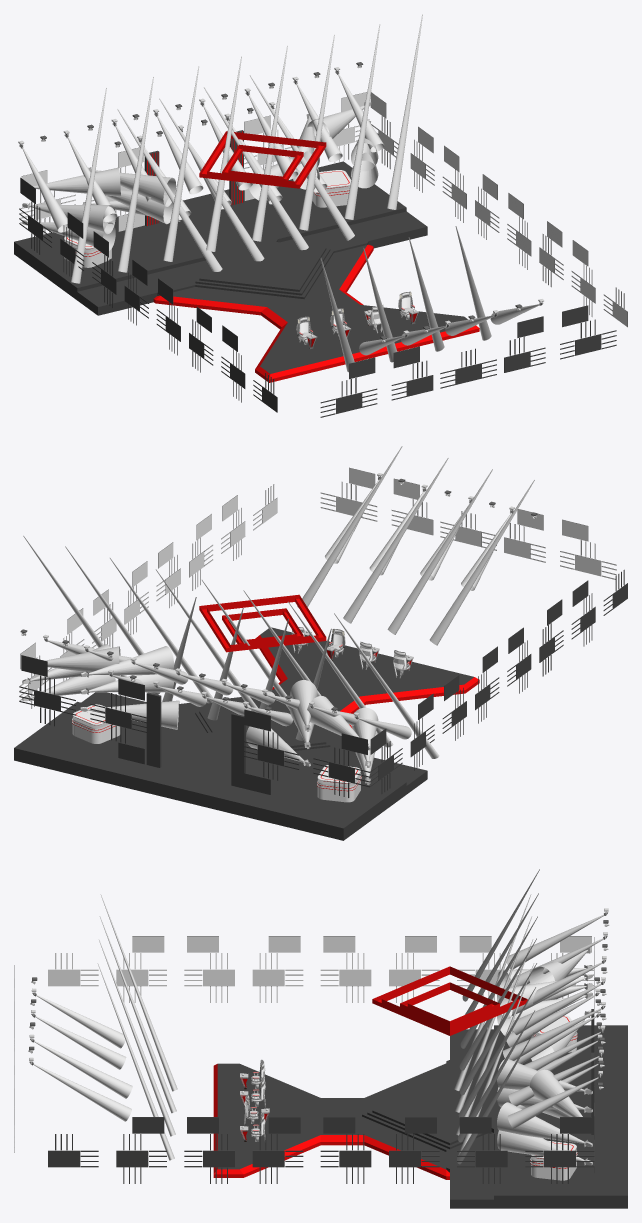
File: the_voice_studio.fbx
3 renders of one model, top to bottom at view 1: azimuth 30°, elevation 25°; view 2: azimuth 150°, elevation 25°; view 3: azimuth 270°, elevation 25°, orthographic. The views are drawn at different scales.
Visible parts, largest first — view 1: Layer0_001, Component#85_017, Group_196, Group_193, Group_171, Group_168, Group_162, Group_165, Group_137, Component#85_001, Group_190, Group_199 (+17 smaller); view 2: Layer0_001, Component#85_007, Group#3_002, Group_227, Group_224, Group_221, Component#85_023, Group#3_001, Group_218, Component#85_011, Component#85_017, Component#85_019 (+11 smaller); view 3: Layer0_001, Component#85_021, Component#85_023, Component#85_019, Group_236, Group_232, Component#85_007, Group_240, Group_216, Group_204, Group_244, Group_176 (+22 smaller).
Boxes of the visible parts, x1=… form: Layer0_001: x1=14, y1=92, x2=627, y2=417; Component#85_017: x1=33, y1=167, x2=120, y2=196; Group_196: x1=344, y1=24, x2=380, y2=219; Group_193: x1=387, y1=14, x2=422, y2=209; Group_171: x1=118, y1=77, x2=153, y2=272; Group_168: x1=163, y1=66, x2=199, y2=261; Group_162: x1=71, y1=88, x2=106, y2=283; Group_165: x1=206, y1=56, x2=241, y2=251; Group_137: x1=117, y1=109, x2=222, y2=271; Component#85_001: x1=89, y1=169, x2=176, y2=206; Group_190: x1=252, y1=45, x2=287, y2=241; Group_199: x1=299, y1=34, x2=334, y2=230; Layer0_001: x1=14, y1=467, x2=627, y2=840; Component#85_007: x1=88, y1=646, x2=173, y2=675; Group#3_002: x1=146, y1=692, x2=161, y2=767; Group_227: x1=343, y1=458, x2=448, y2=623; Group_224: x1=387, y1=469, x2=492, y2=634; Group_221: x1=429, y1=480, x2=534, y2=645; Component#85_023: x1=45, y1=646, x2=120, y2=676; Group#3_001: x1=231, y1=713, x2=245, y2=788; Group_218: x1=297, y1=446, x2=402, y2=607; Component#85_011: x1=87, y1=700, x2=179, y2=729; Component#85_017: x1=307, y1=696, x2=359, y2=737; Component#85_019: x1=30, y1=675, x2=115, y2=698; Layer0_001: x1=14, y1=936, x2=627, y2=1208; Component#85_021: x1=497, y1=1102, x2=584, y2=1143; Component#85_023: x1=529, y1=1069, x2=582, y2=1116; Component#85_019: x1=497, y1=1130, x2=584, y2=1160; Group_236: x1=34, y1=1041, x2=132, y2=1098; Group_232: x1=33, y1=1064, x2=131, y2=1121; Component#85_007: x1=497, y1=1059, x2=584, y2=1091; Group_240: x1=35, y1=1016, x2=126, y2=1069; Group_216: x1=507, y1=1077, x2=598, y2=1128; Group_204: x1=503, y1=1008, x2=601, y2=1060; Group_244: x1=36, y1=995, x2=125, y2=1048; Group_176: x1=505, y1=914, x2=604, y2=969.
Size of the model in its own units: 3482 by 1600 by 4554.
